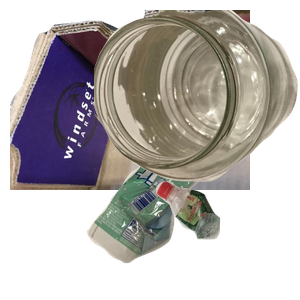cardboard: (10, 10, 250, 190)
glass: (94, 10, 300, 184)
plastic: (153, 178, 300, 300)
trash: (84, 133, 292, 300)
